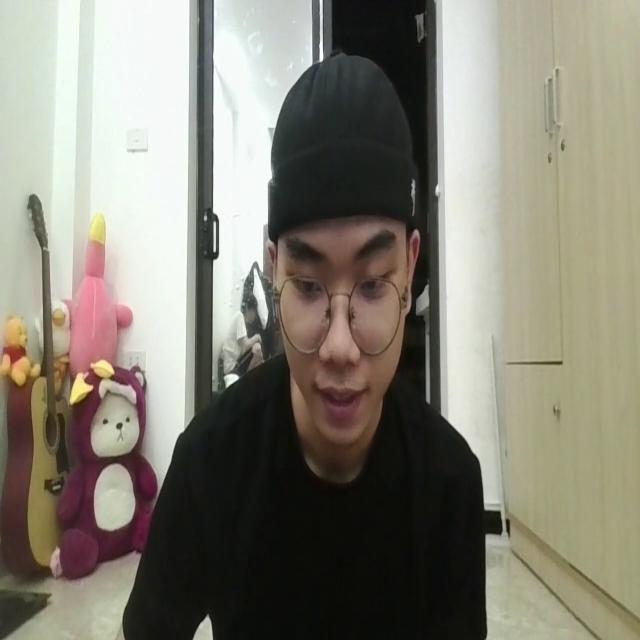student: (121, 46, 485, 640)
